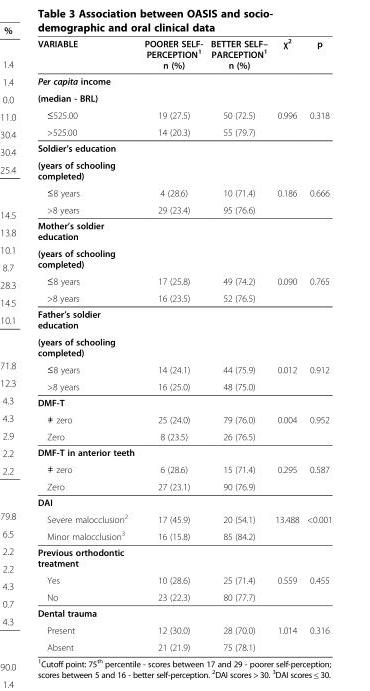table: (36, 36, 331, 652)
table column: (36, 36, 138, 652), (138, 36, 206, 652), (206, 36, 270, 652), (270, 36, 302, 652), (302, 36, 331, 652)
table column header: (36, 36, 331, 72)
table projected row header: (36, 244, 331, 272), (36, 305, 331, 333), (36, 156, 331, 183), (36, 217, 331, 244), (36, 333, 331, 360), (36, 544, 331, 571), (36, 72, 331, 89), (36, 89, 331, 106), (36, 139, 331, 156), (36, 604, 331, 621), (36, 394, 331, 410), (36, 444, 331, 460), (36, 494, 331, 509)
table row: (36, 36, 331, 72), (36, 244, 331, 272), (36, 305, 331, 333), (36, 156, 331, 183), (36, 217, 331, 244), (36, 333, 331, 360), (36, 544, 331, 571), (36, 183, 331, 201), (36, 526, 331, 544), (36, 72, 331, 89), (36, 89, 331, 106), (36, 106, 331, 123), (36, 139, 331, 156), (36, 272, 331, 289), (36, 360, 331, 377), (36, 377, 331, 394), (36, 410, 331, 427), (36, 427, 331, 444), (36, 460, 331, 477), (36, 477, 331, 494), (36, 509, 331, 526), (36, 571, 331, 588), (36, 604, 331, 621), (36, 621, 331, 638), (36, 123, 331, 139), (36, 201, 331, 217), (36, 289, 331, 305), (36, 394, 331, 410), (36, 444, 331, 460), (36, 588, 331, 604), (36, 494, 331, 509), (36, 638, 331, 652)
